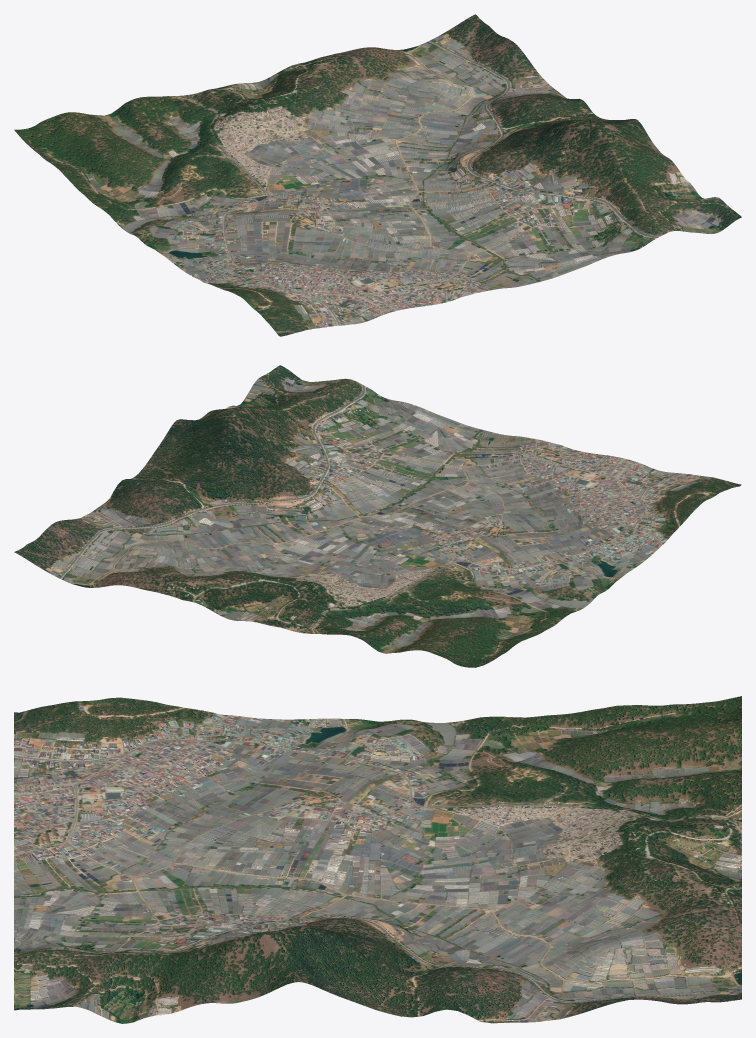
The model's file is terrain_real_T_E02_N02.glb.
3 renders of one model, top to bottom at view 1: azimuth 30°, elevation 25°; view 2: azimuth 150°, elevation 25°; view 3: azimuth 270°, elevation 25°, orthographic. The views are drawn at different scales.
Parts seen in each view (by area): view 1: TerrainReal_T_E02_N02; view 2: TerrainReal_T_E02_N02; view 3: TerrainReal_T_E02_N02.
Part boxes in pixels (box(x1,y1,x2,y2)): TerrainReal_T_E02_N02: box(14, 14, 741, 336); TerrainReal_T_E02_N02: box(14, 365, 741, 667); TerrainReal_T_E02_N02: box(14, 696, 741, 1023).
Bounding box in the file's own units: 2000 × 205 × 2000.
1 material, 1 textured.
